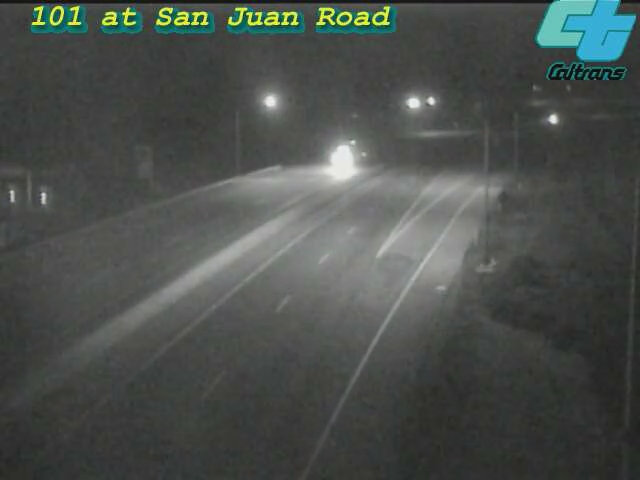vehicle: (319, 133, 369, 183), (527, 95, 577, 145)
